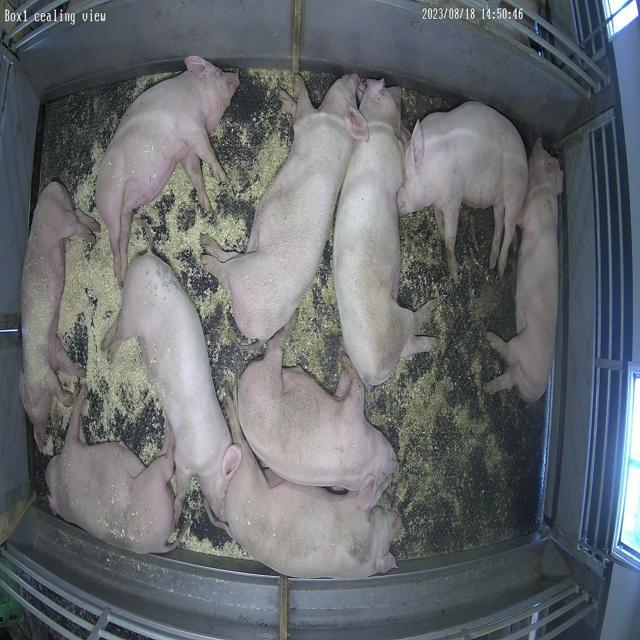Dirt: (416, 260, 546, 554)
Pig: (201, 73, 367, 342), (110, 250, 235, 524), (96, 56, 239, 284), (334, 79, 437, 386), (398, 101, 529, 280), (485, 139, 564, 402)
